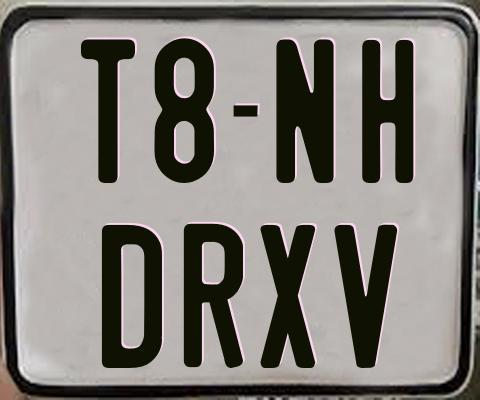8: (153, 36, 214, 186)
D: (100, 225, 163, 369)
H: (361, 40, 413, 183)
N: (274, 39, 335, 186)
R: (183, 224, 245, 370)
T: (80, 39, 139, 184)
V: (331, 224, 398, 370)
X: (257, 224, 316, 371)
